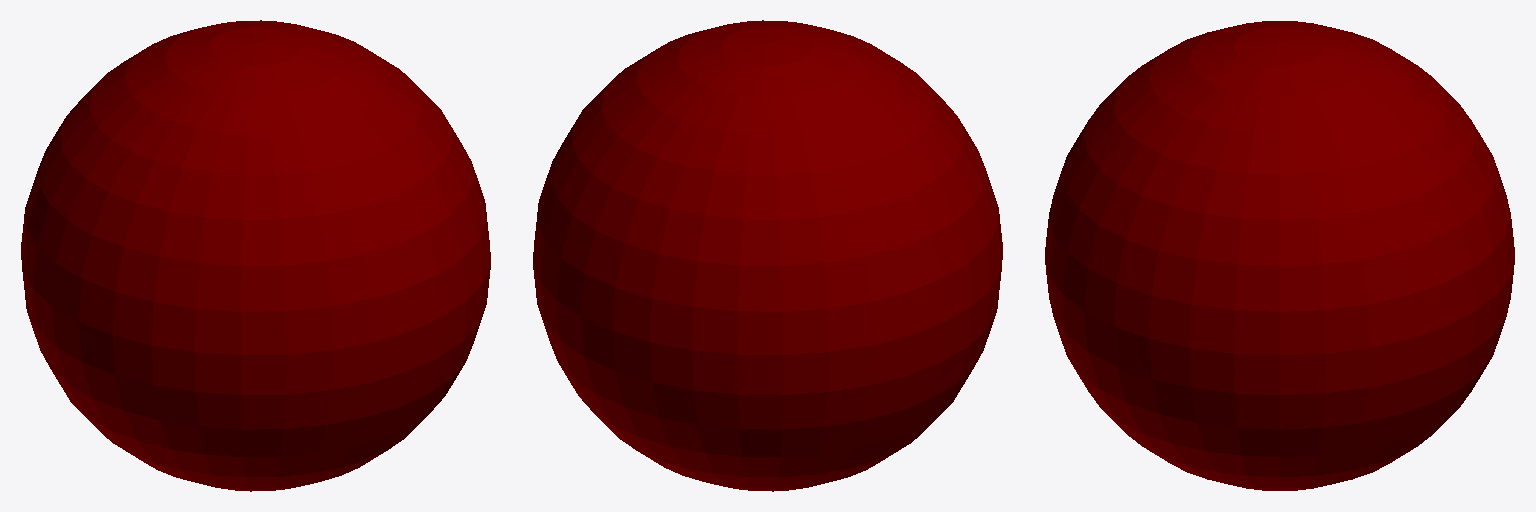
The robot description file, URDF, robot "kuka_iiwa":
<?xml version="1.0" ?>
<!--Autogenerated by "taco/models/sdf2urdf" converter from "../kuka_iiwa/kuka_iiwa.sdf"-->
<robot name="kuka_iiwa">
    <link name="base_link">
        <inertial>
            <origin xyz="0 0 0.14" rpy="0 -0 0" />
            <mass value="4" />
            <inertia ixx="0.4" iyy="0.4" izz="0.4" ixy="0" ixz="0" iyz="0" />
        </inertial>
        <visual>
            <origin xyz="0 0 0" rpy="0 -0 0" />
            <geometry>
                <mesh filename="meshes/base.obj" scale="1 1 1" />
            </geometry>
        </visual>
        <!-- <collision>
            <origin xyz="0 0 0" rpy="0 -0 0" />
            <geometry>
                <mesh filename="meshes/base.obj" scale="1 1 1" />
            </geometry>
        </collision> -->
    </link>
    <link name="link0">
        <inertial>
            <origin xyz="0 0 0.14" rpy="0 -0 0" />
            <mass value="4" />
            <inertia ixx="0.4" iyy="0.4" izz="0.4" ixy="0" ixz="0" iyz="0" />
        </inertial>
        <visual>
            <origin xyz="0 0 0" rpy="0 -0 0" />
            <geometry>
                <mesh filename="meshes/link0.obj" scale="1 1 1" />
            </geometry>
        </visual>
        <!-- <collision>
            <origin xyz="0 0 0" rpy="0 -0 0" />
            <geometry>
                <mesh filename="meshes/link0.obj" scale="1 1 1" />
            </geometry>
        </collision> -->
    </link>
    <link name="link1">
        <inertial>
            <origin xyz="0 0 0.14" rpy="0 -0 0" />
            <mass value="4" />
            <inertia ixx="0.4" iyy="0.4" izz="0.4" ixy="0" ixz="0" iyz="0" />
        </inertial>
        <visual>
            <origin xyz="0 0 0" rpy="0 -0 0" />
            <geometry>
                <mesh filename="meshes/link1.obj" scale="1 1 1" />
            </geometry>
        </visual>
        <!-- <collision>
            <origin xyz="0 0 0" rpy="0 -0 0" />
            <geometry>
                <mesh filename="meshes/link1.obj" scale="1 1 1" />
            </geometry>
        </collision> -->
    </link>
    <link name="link2">
        <inertial>
            <origin xyz="0 0 0.14" rpy="0 -0 0" />
            <mass value="4" />
            <inertia ixx="0.4" iyy="0.4" izz="0.4" ixy="0" ixz="0" iyz="0" />
        </inertial>
        <visual>
            <origin xyz="0 0 0" rpy="0 -0 0" />
            <geometry>
                <mesh filename="meshes/link2.obj" scale="1 1 1" />
            </geometry>
        </visual>
        <!-- <collision>
            <origin xyz="0 0 0" rpy="0 -0 0" />
            <geometry>
                <mesh filename="meshes/link2.obj" scale="1 1 1" />
            </geometry>
        </collision> -->
    </link>
    <link name="link3">
        <inertial>
            <origin xyz="0 0 0.14" rpy="0 -0 0" />
            <mass value="4" />
            <inertia ixx="0.4" iyy="0.4" izz="0.4" ixy="0" ixz="0" iyz="0" />
        </inertial>
        <visual>
            <origin xyz="0 0 0" rpy="0 -0 0" />
            <geometry>
                <mesh filename="meshes/link3.obj" scale="1 1 1" />
            </geometry>
        </visual>
        <!-- <collision>
            <origin xyz="0 0 0" rpy="0 -0 0" />
            <geometry>
                <mesh filename="meshes/link3.obj" scale="1 1 1" />
            </geometry>
        </collision> -->
    </link>
    <link name="link4">
        <inertial>
            <origin xyz="0 0 0.14" rpy="0 -0 0" />
            <mass value="3" />
            <inertia ixx="0.3" iyy="0.3" izz="0.3" ixy="0" ixz="0" iyz="0" />
        </inertial>
        <visual>
            <origin xyz="0 0 0" rpy="0 -0 0" />
            <geometry>
                <mesh filename="meshes/link4.obj" scale="1 1 1" />
            </geometry>
        </visual>
        <!-- <collision>
            <origin xyz="0 0 0" rpy="0 -0 0" />
            <geometry>
                <mesh filename="meshes/link4.obj" scale="1 1 1" />
            </geometry>
        </collision> -->
    </link>
    <link name="link5">
        <inertial>
            <origin xyz="0 0 0.14" rpy="0 -0 0" />
            <mass value="2" />
            <inertia ixx="0.2" iyy="0.2" izz="0.2" ixy="0" ixz="0" iyz="0" />
        </inertial>
        <visual>
            <origin xyz="0 -0.06 0" rpy="0 -0 0" />
            <geometry>
                <mesh filename="meshes/link5.obj" scale="1 1 1" />
            </geometry>
        </visual>
        <!-- <collision>
            <origin xyz="0 -0.06 0" rpy="0 -0 0" />
            <geometry>
                <mesh filename="meshes/link5.obj" scale="1 1 1" />
            </geometry>
        </collision> -->
    </link>
    <link name="link6">
        <!-- <inertial>
            <origin xyz="0 0 0.03" rpy="0 -0 0" />
            <mass value="1" />
            <inertia ixx="0.1" iyy="0.1" izz="0.1" ixy="0" ixz="0" iyz="0" />
        </inertial> -->
        <inertial>
            <origin xyz="0.074 0 0.128" rpy="0 -0 0" />
            <mass value="3.3" />
            <inertia ixx="0.1" iyy="0.2" izz="0.1" ixy="0" ixz="0" iyz="0" />
        </inertial>
        <visual>
            <origin xyz="0 0 0" rpy="0 -0 0" />
            <geometry>
                <mesh filename="meshes/link6.obj" scale="1 1 1" />
            </geometry>
        </visual>
        <visual>
            <origin xyz="-0.85 0 1.12" rpy="-1.5707 -0 0" />
            <geometry>
                <!-- <mesh filename="meshes/torch.obj" scale="1 1 1" /> -->
                <mesh filename="meshes/daihen_welding_tool.obj" scale="1.05 1.05 1.05" />
            </geometry>
        </visual>
        <visual>
            <origin xyz="0.01 0.0 0.44" rpy="0 0 0" />
            <geometry>
                <sphere radius="0.005" />
            </geometry>
            <material name="material_red">
                <color rgba="0.5 0.0 0.0 1.0" />
            </material>
        </visual>
        <collision>
            <origin xyz="0.01 0.0 0.44" rpy="0 0 0" />
            <geometry>
                <sphere radius="0.005" />
            </geometry>
        </collision>
    </link>
    <joint name="j0" type="revolute">
        <parent link="base_link" />
        <child link="link0" />
        <origin xyz="0.000000 0.000000 0.155767" rpy="-0.000000 0.000000 -0.000000" />
        <axis xyz="0 0 1" />
        <limit lower="-2.967" upper="2.967" effort="176" velocity="1.7104" />
    </joint>
    <joint name="j1" type="revolute">
        <parent link="link0" />
        <child link="link1" />
        <origin xyz="0.000000 0.000000 0.182500" rpy="-0.000000 0.000000 -0.000000" />
        <axis xyz="0 1 0" />
        <limit lower="-2.0944" upper="2.0944" effort="176" velocity="1.7104" />
    </joint>
    <joint name="j2" type="revolute">
        <parent link="link1" />
        <child link="link2" />
        <origin xyz="0.000000 0.000000 0.185000" rpy="-0.000000 0.000000 -0.000000" />
        <axis xyz="0 0 1" />
        <limit lower="-2.967" upper="2.967" effort="110" velocity="1.7453" />
    </joint>
    <joint name="j3" type="revolute">
        <parent link="link2" />
        <child link="link3" />
        <origin xyz="0.000000 0.000000 0.217000" rpy="-0.000000 0.000000 -0.000000" />
        <axis xyz="0 1 0" />
        <limit lower="-2.0944" upper="2.0944" effort="110" velocity="2.2689" />
    </joint>
    <joint name="j4" type="revolute">
        <parent link="link3" />
        <child link="link4" />
        <origin xyz="0.000000 0.000000 0.186000" rpy="-0.000000 0.000000 -0.000000" />
        <axis xyz="0 0 1" />
        <limit lower="-2.967" upper="2.967" effort="110" velocity="2.4434" />
    </joint>
    <joint name="j5" type="revolute">
        <parent link="link4" />
        <child link="link5" />
        <origin xyz="0.000000 0.000000 0.217003" rpy="-0.000000 0.000000 -0.000000" />
        <axis xyz="0 1 0" />
        <limit lower="-2.0944" upper="2.0944" effort="40" velocity="3.1416" />
    </joint>
    <joint name="j6" type="revolute">
        <parent link="link5" />
        <child link="link6" />
        <origin xyz="0.000000 0.000000 0.081000" rpy="-0.000000 0.000000 -0.000000" />
        <axis xyz="0 0 1" />
        <limit lower="-3.0543" upper="3.0543" effort="40" velocity="3.1416" />
    </joint>
</robot>

--- What the picture shows (computed from the rendered views, not written in the file) ---
Views: 3 orthographic renders of the robot side by side, from view 1: azimuth 30°, elevation 25°; view 2: azimuth 150°, elevation 25°; view 3: azimuth 270°, elevation 25°.
Model kuka_iiwa with 8 links and 7 joints (7 revolute), rooted at base_link, posed all joints at 0.
Links seen in each view (by area): view 1: link6; view 2: link6; view 3: link6.
Link boxes in pixels (x1,y1,x2,y2): link6: (21,20,490,491); link6: (533,20,1002,491); link6: (1045,21,1514,490).
Size in the robot's own frame: 0.01 by 0.01 by 0.01 metres.
0 mesh visuals loaded from 9 distinct referenced files (none loaded); not drawn: 9 (reference not matched to a file when rendering).